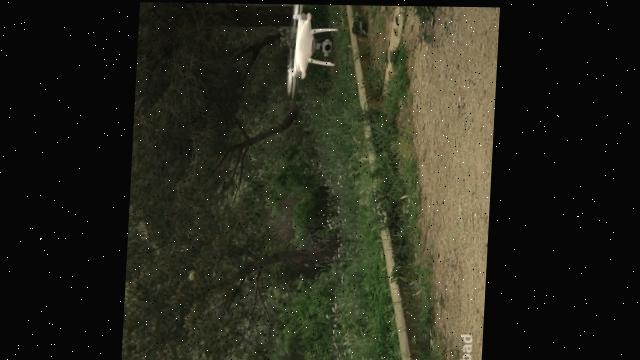drone: (282, 3, 337, 99)
